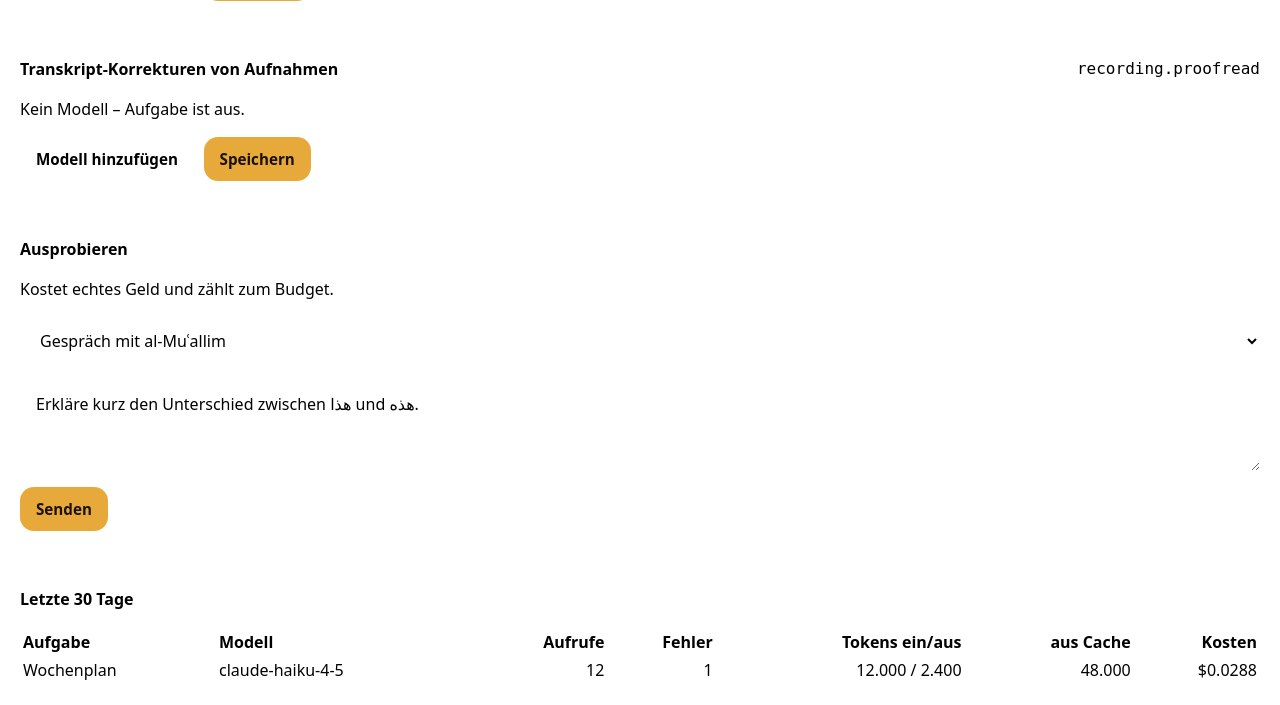
Test: Admin AI page › tries a task and shows answer, model, cache use and cost
(page scrolled)
Click the button "Senden" at (64, 509), box x1=20 y1=487 x2=108 y2=531
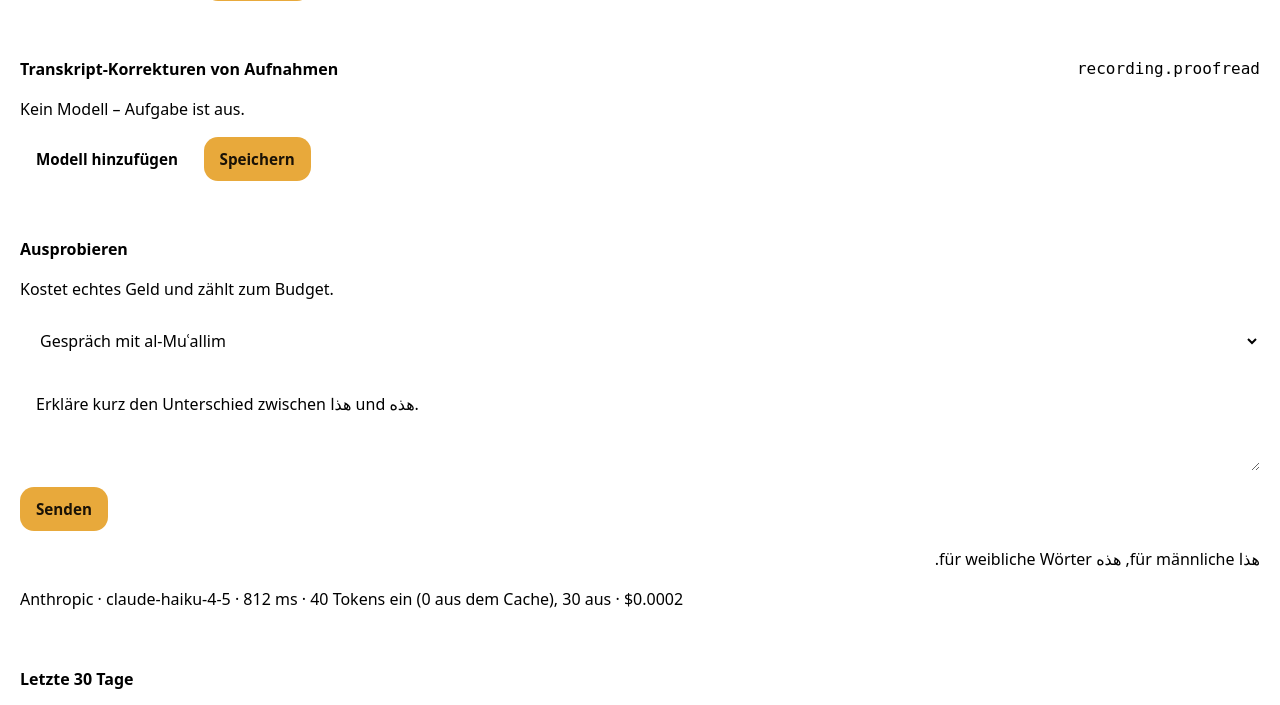
Now the text "هذا für männliche, هذه für weibliche Wörter." is shown, box x1=935 y1=548 x2=1260 y2=570
Now the text "$0.0002" is shown, box x1=20 y1=588 x2=683 y2=610
